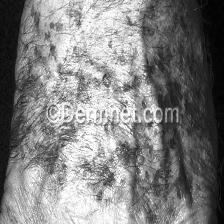Benign Marking or Mole: (23, 121, 196, 224), (28, 10, 194, 99)
